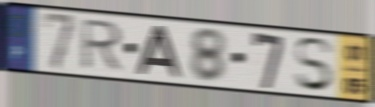7: (41, 10, 76, 74), (251, 29, 285, 91)
8: (189, 25, 228, 85)
A: (134, 24, 184, 80)
R: (78, 18, 126, 74)
S: (292, 36, 337, 94)
